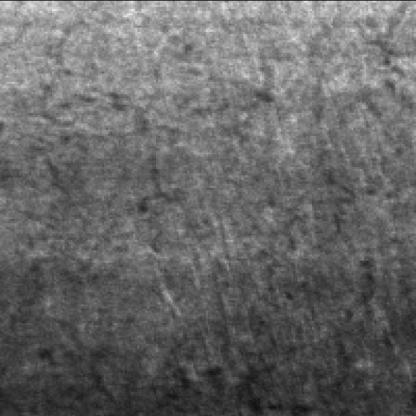crazing: (312, 6, 412, 385), (35, 0, 178, 214), (31, 335, 319, 414)
